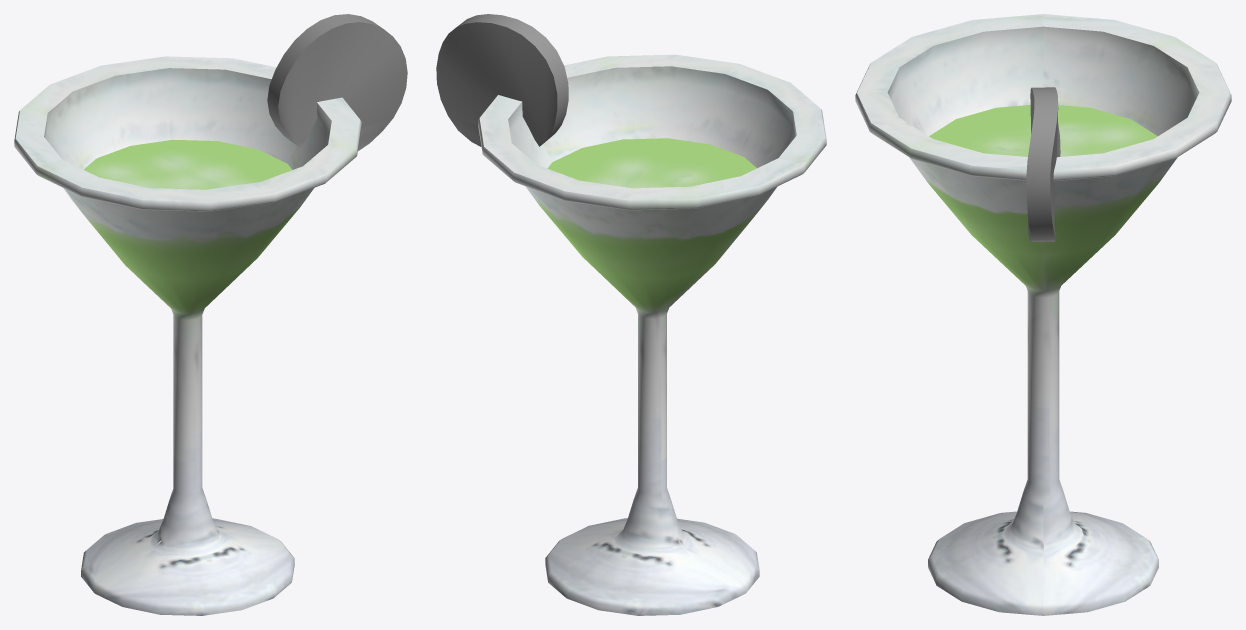
Rendered from Cocktail01_4.FBX.
The picture shows the model from 3 angles, left to right: view 1: azimuth 30°, elevation 25°; view 2: azimuth 150°, elevation 25°; view 3: azimuth 270°, elevation 25°; orthographic projection. The views are drawn at different scales.
Visible parts, largest first — view 1: Cocktail01_4; view 2: Cocktail01_4; view 3: Cocktail01_4.
Boxes of the visible parts, box(x1,y1,x2,y2) form: Cocktail01_4: box(14, 14, 407, 615); Cocktail01_4: box(436, 14, 826, 615); Cocktail01_4: box(855, 14, 1231, 615).
Bounding box in the file's own units: 12.11 × 16.32 × 10.09.
